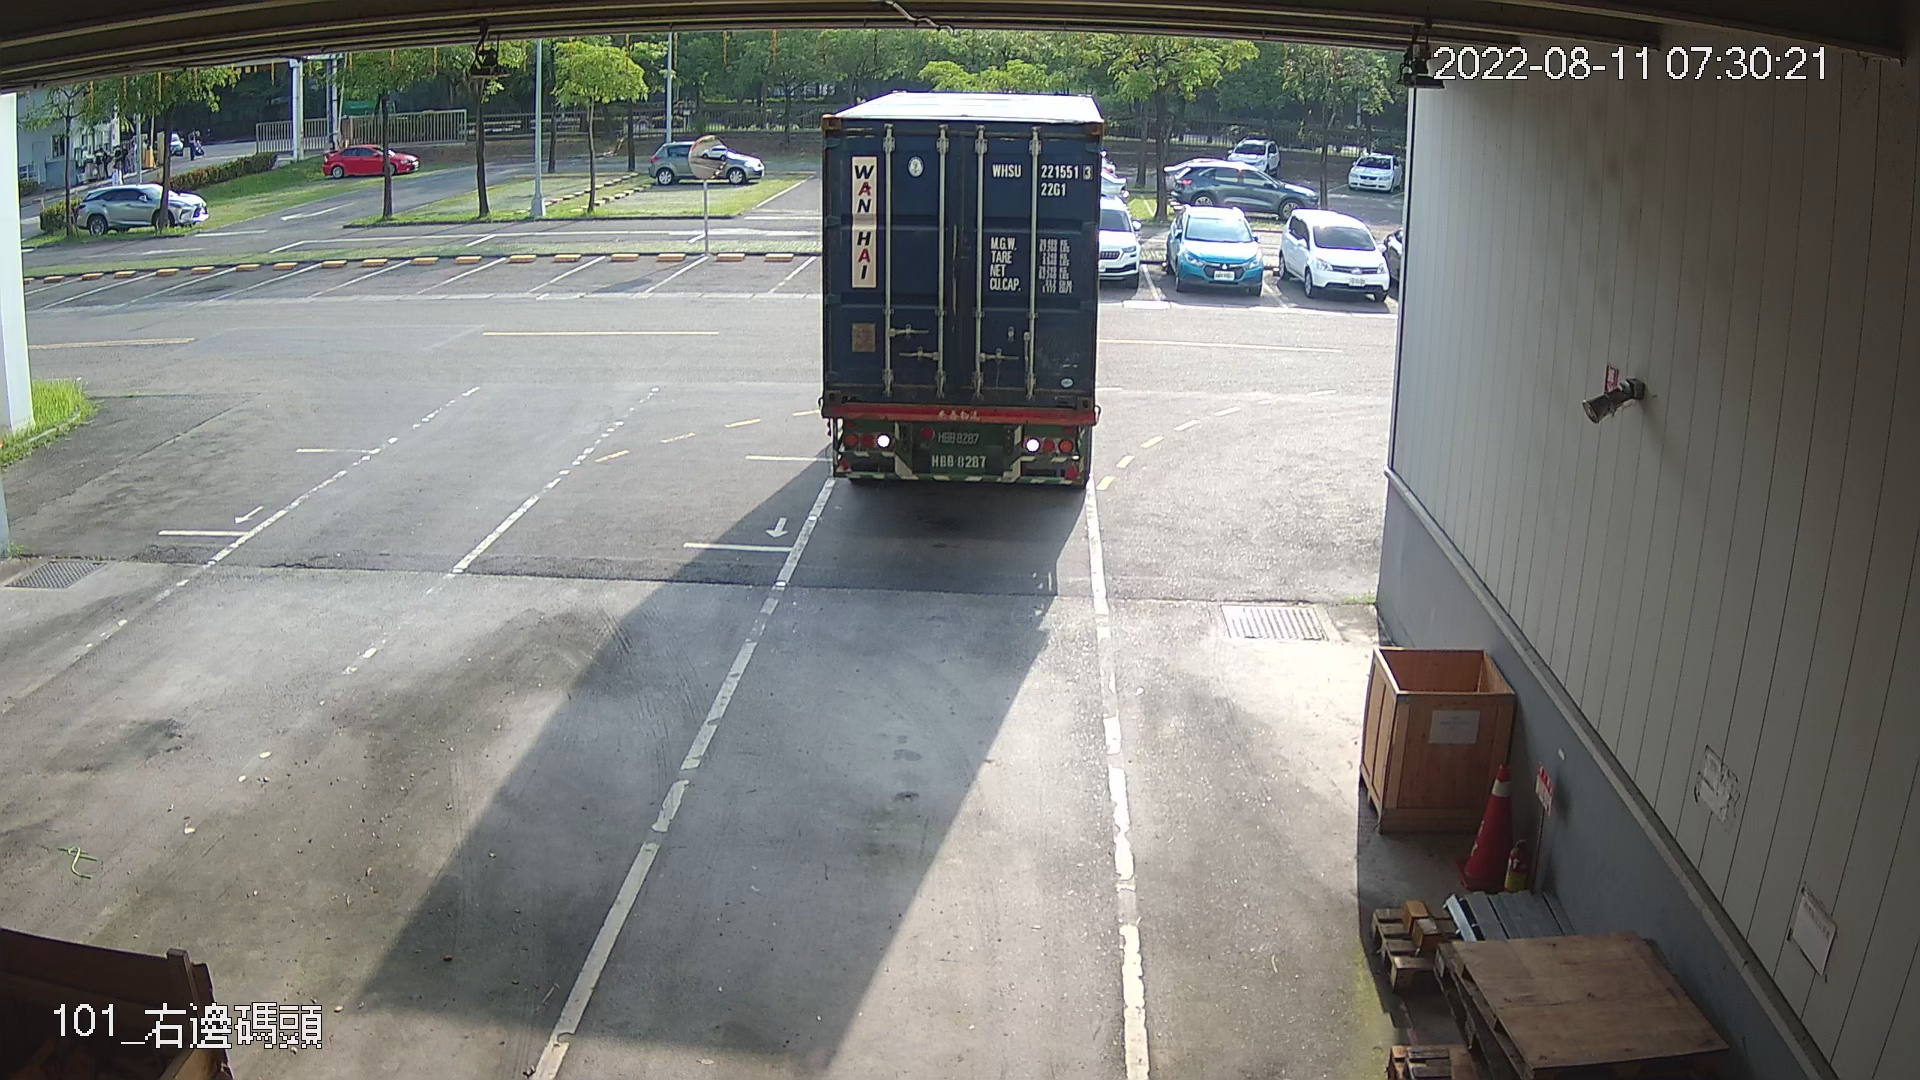container: (985, 156, 1095, 204)
